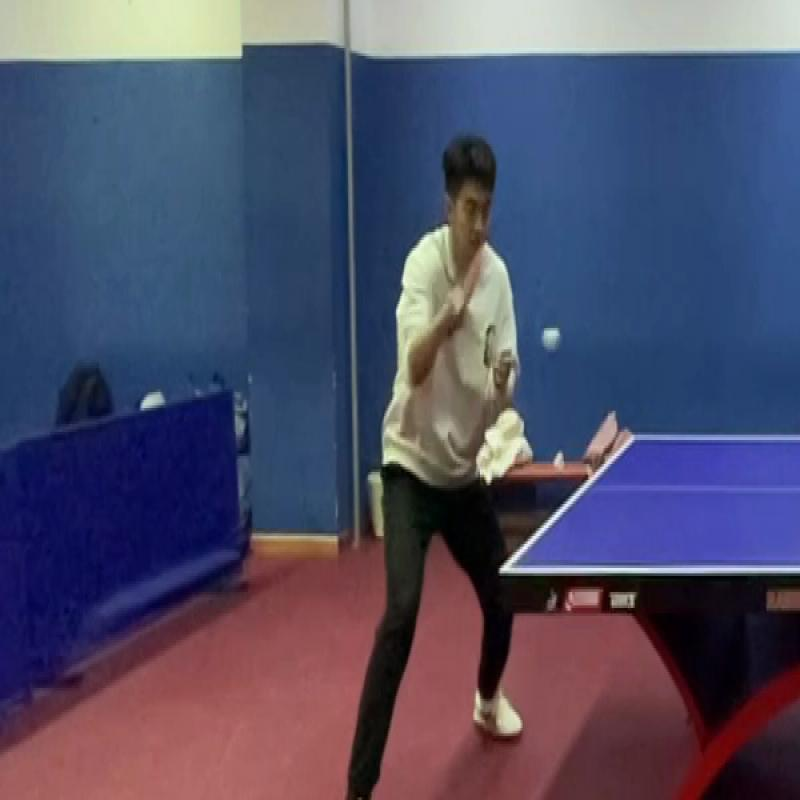bats: (442, 243, 490, 337)
